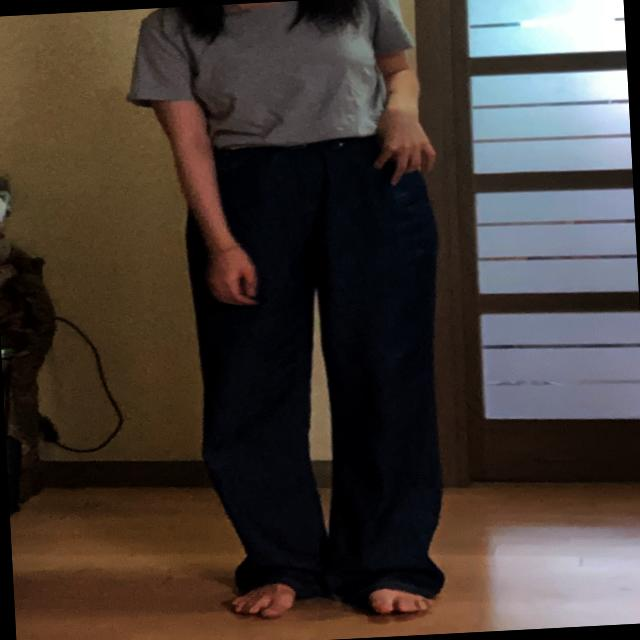denimpants: (185, 130, 460, 610)
shortsleeve: (126, 0, 423, 153)
